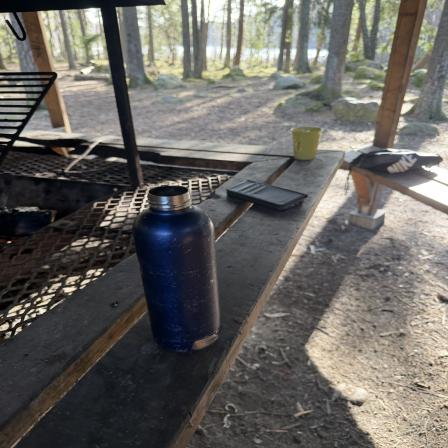blue_bottle: (131, 185, 223, 354)
phone: (226, 179, 311, 213)
yellow_cup: (290, 126, 321, 162)
